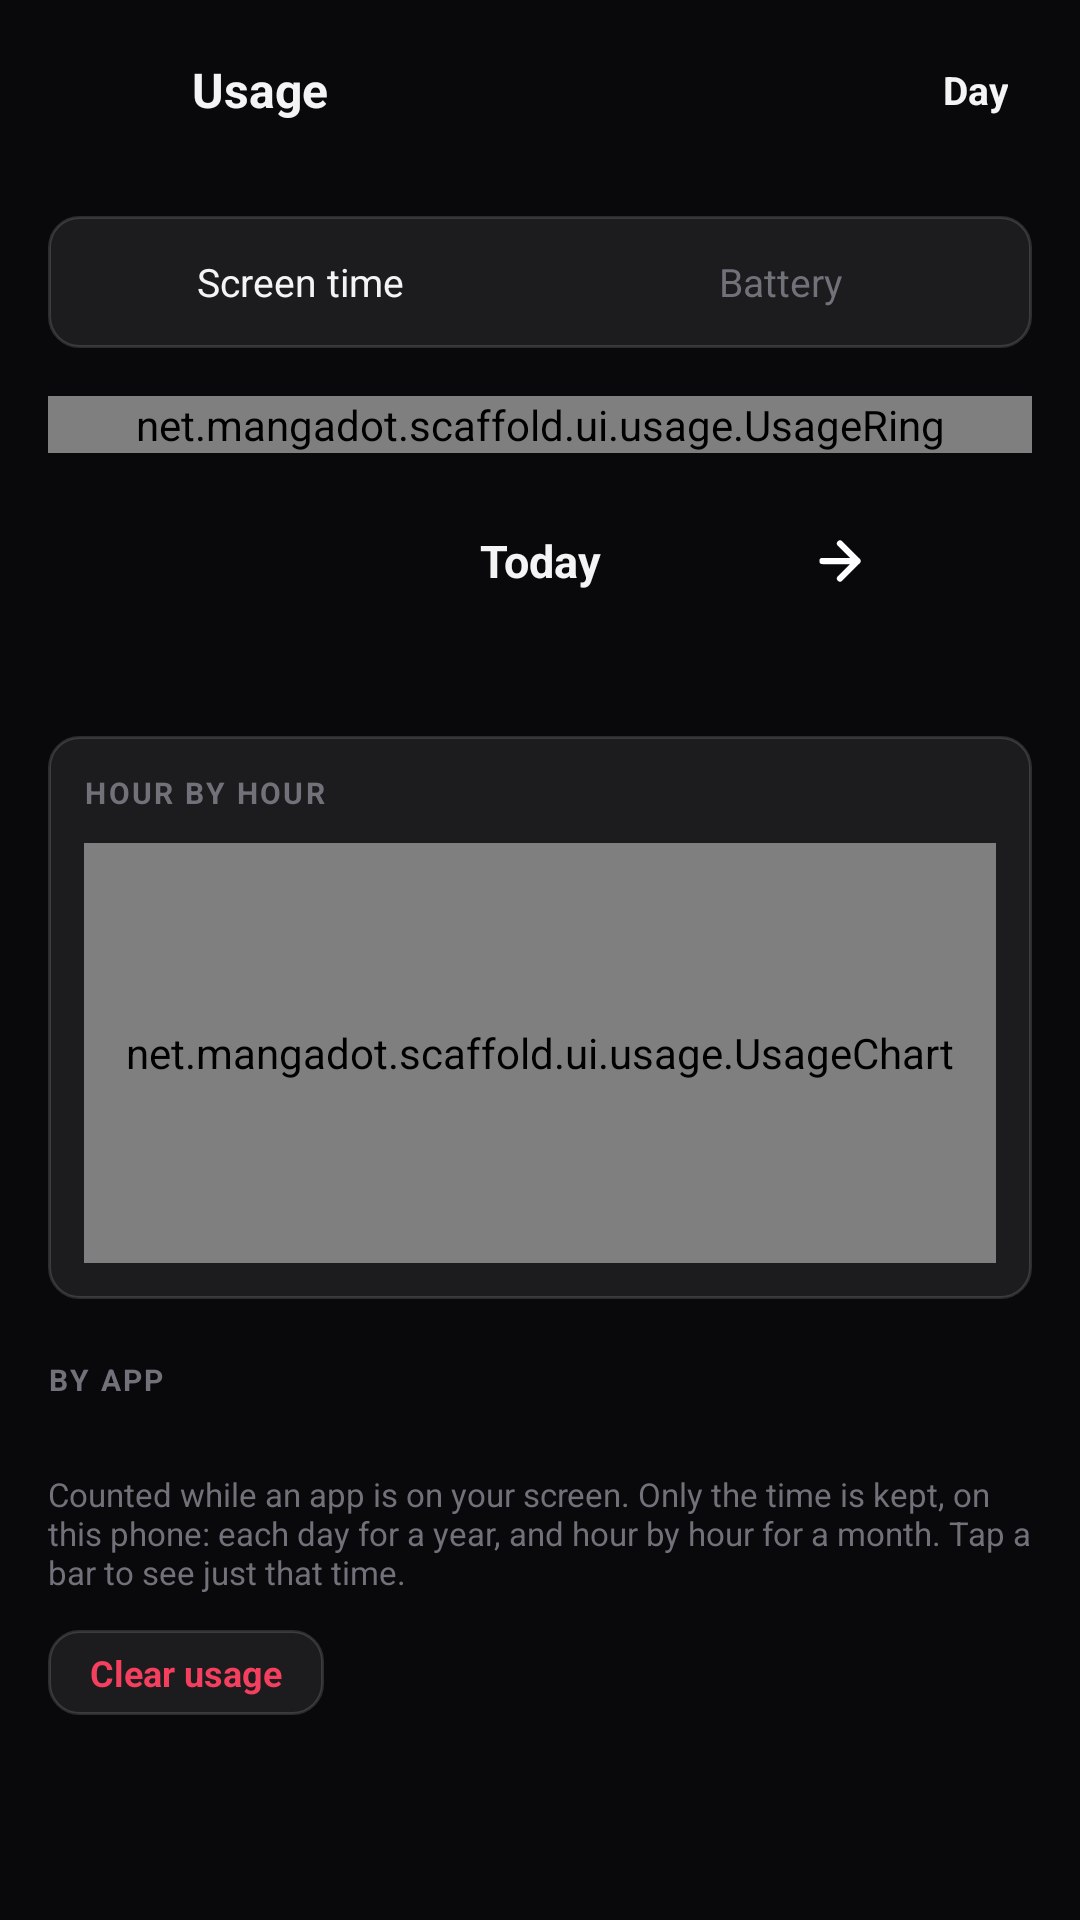

Icon bounding boxes for this 1080*1920 phone screenshot, format bbox=[x1, y1, x2, y2]:
Day after: bbox=[819, 540, 861, 582]
